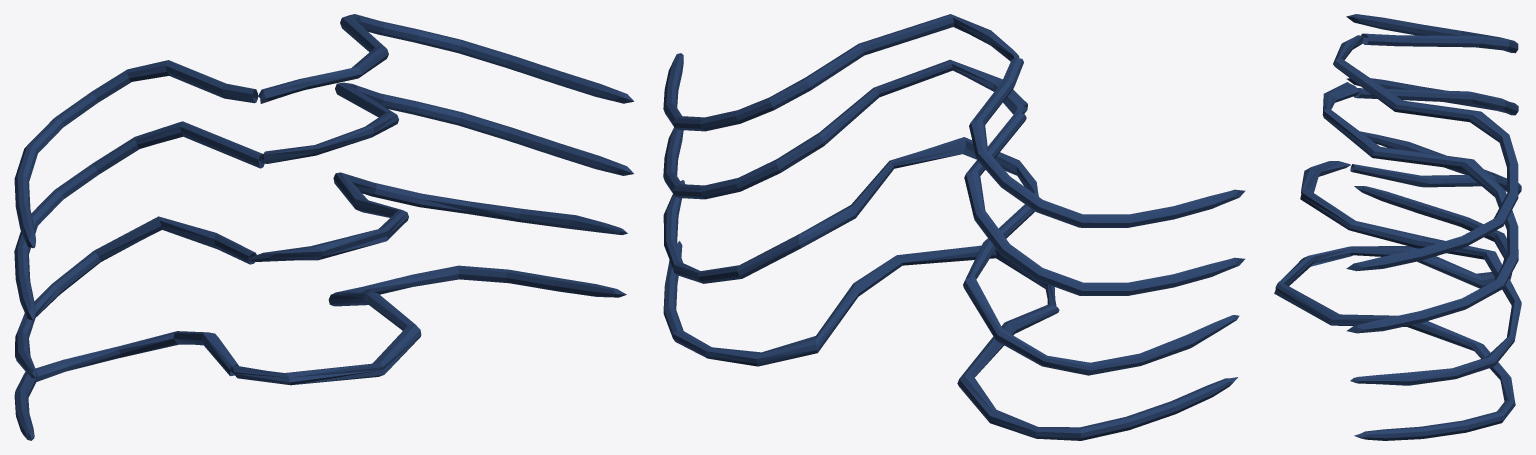
The model's file is Vena Costal.FBX.
The picture shows the model from 3 angles, left to right: view 1: azimuth 30°, elevation 25°; view 2: azimuth 150°, elevation 25°; view 3: azimuth 270°, elevation 25°; orthographic projection. The views are drawn at different scales.
Visible parts, largest first — view 1: CS_Veins; view 2: CS_Veins; view 3: CS_Veins.
Boxes of the visible parts, x1,y1,x2,y2 form: CS_Veins: (14,14,633,440); CS_Veins: (663,14,1245,440); CS_Veins: (1274,14,1521,440).
Size of the model in its own units: 611 by 321 by 253.
